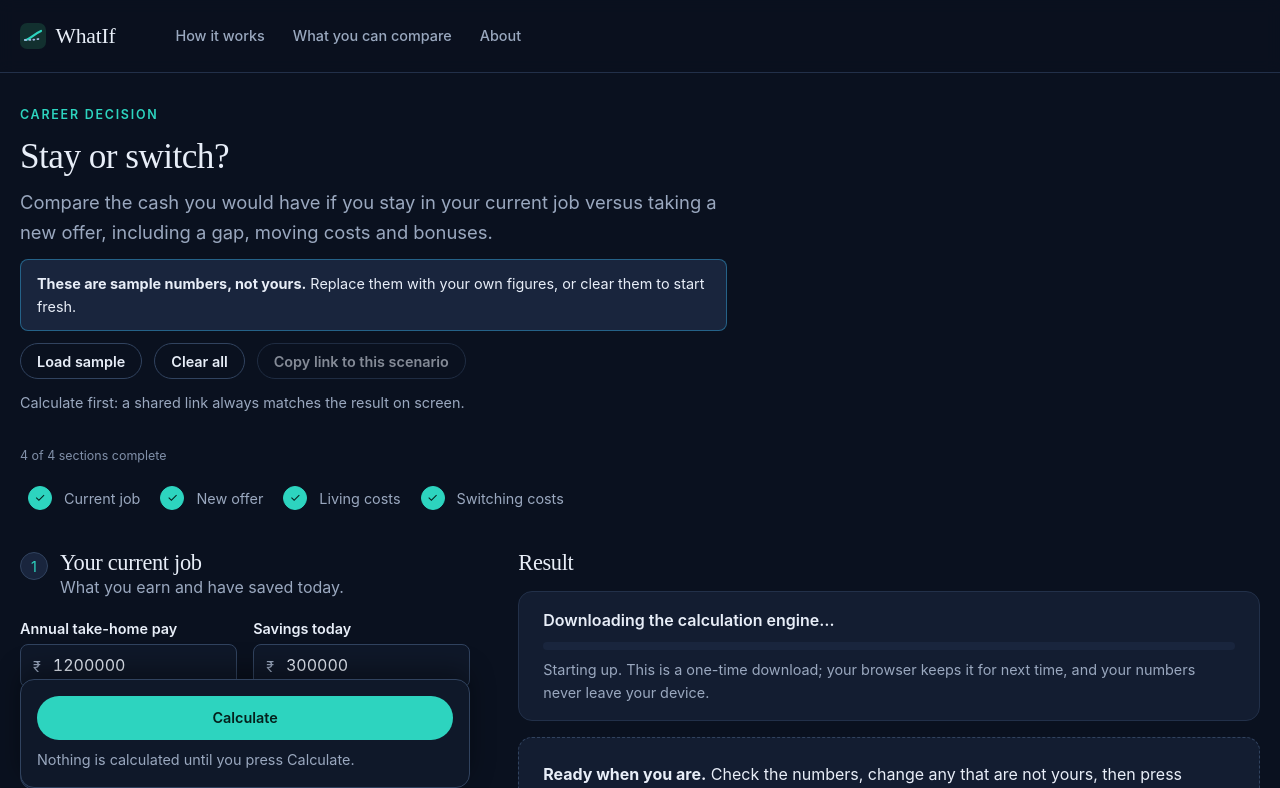
header and footer › keeps the logo and nav links on the calculator, with the logo going home
This screenshot has width=1280, height=788.
Expected: the link "How it works" is shown, [176,28,265,44]
Expected: the link "What you can compare" is shown, [293,28,452,44]
What coordinates should you click on to do the following:
click the link with aria-label "WhatIf home"
I would click on:
 (68, 36)
Its box is [20,23,116,49].
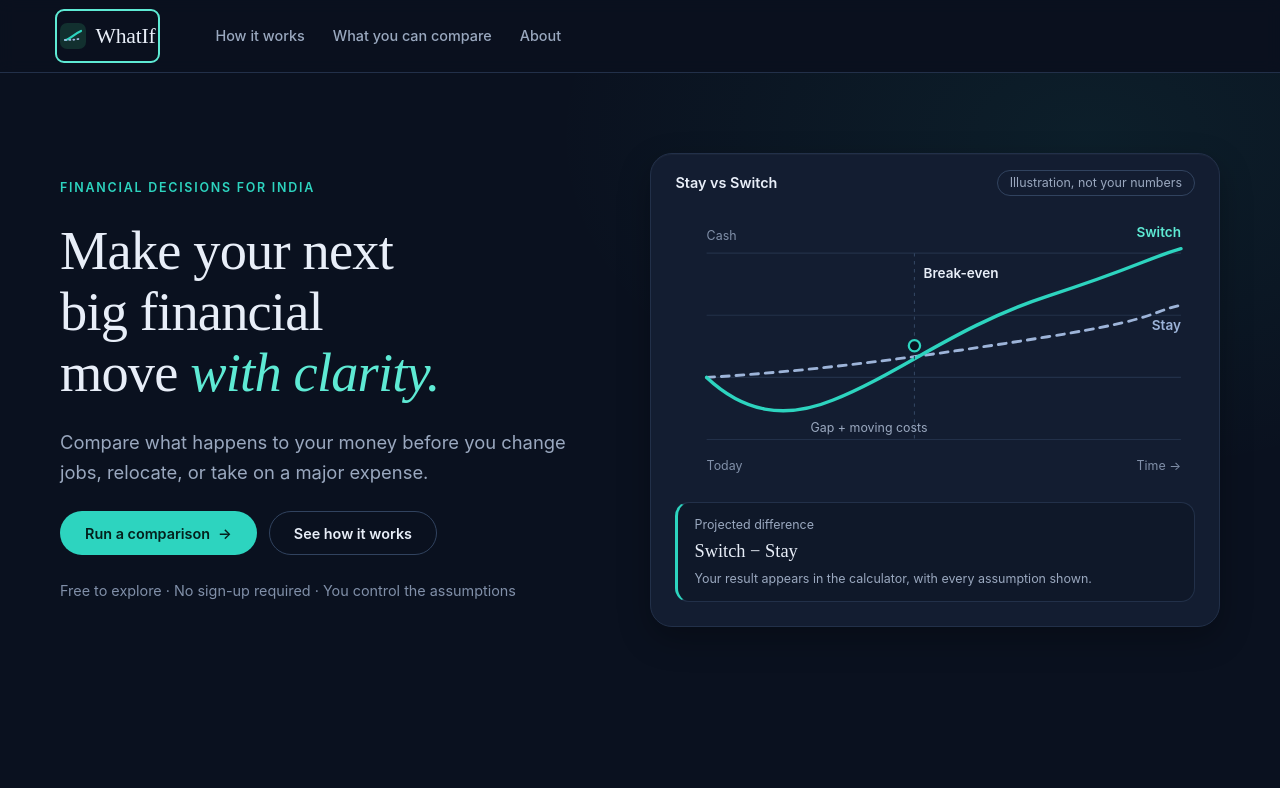
Now the heading "Make your next big financial move with clarity." is shown, box [60,222,440,403]
